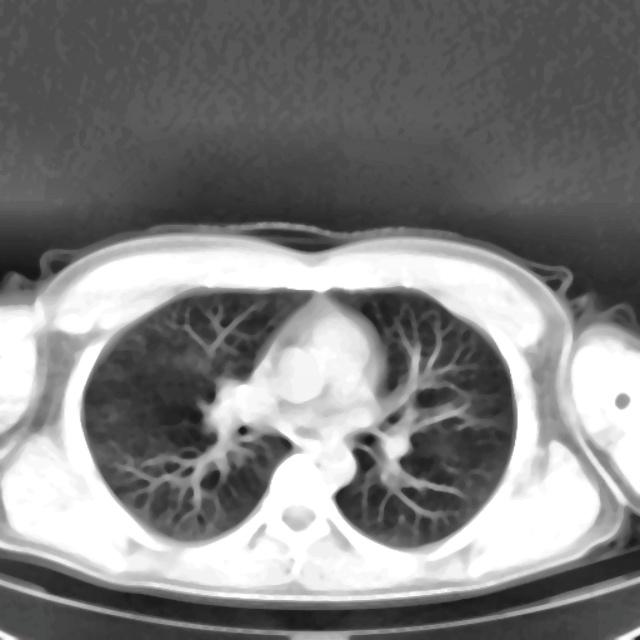covid: (0, 221, 638, 609)
